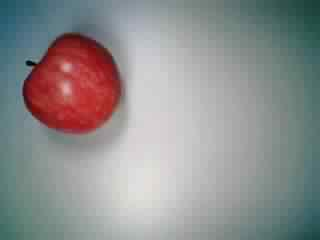apple: (21, 33, 128, 136)
